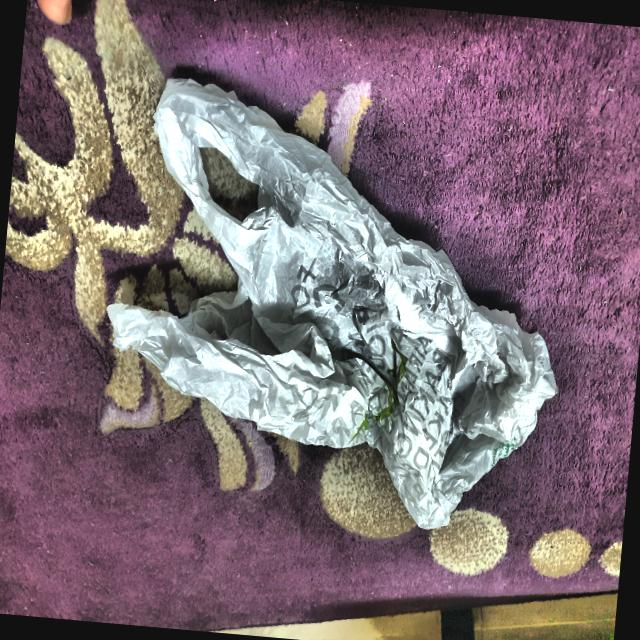plastic bag: (76, 59, 590, 548)
